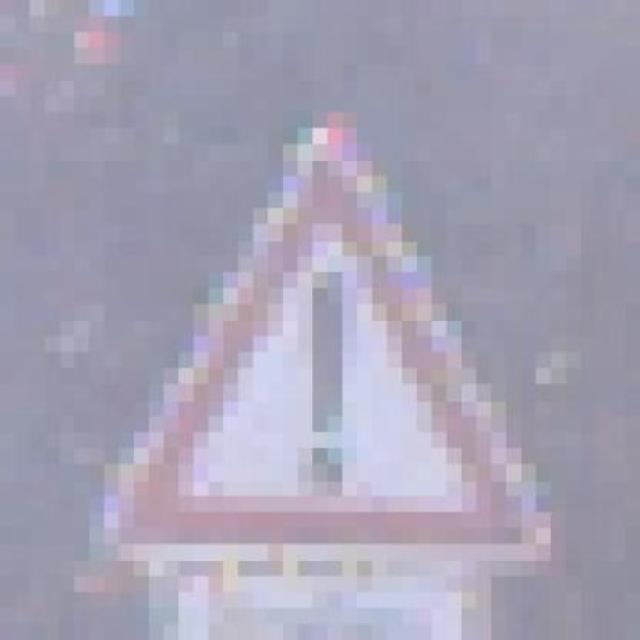Attention Please-: (53, 113, 559, 561)
